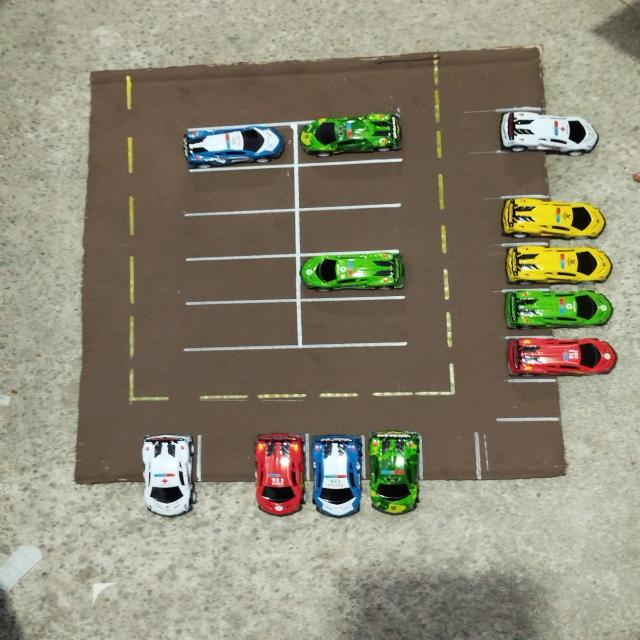libre: (75, 433, 141, 520), (496, 153, 618, 196), (186, 302, 299, 348), (420, 431, 476, 521), (185, 213, 298, 256), (299, 299, 409, 342), (186, 168, 296, 210), (202, 433, 254, 520), (294, 165, 401, 207), (186, 258, 298, 298), (501, 381, 624, 417), (296, 209, 401, 251)
no_estacionarse: (478, 419, 565, 483)
ocupado: (502, 288, 617, 335), (498, 197, 614, 243), (363, 429, 421, 520), (499, 242, 618, 286), (140, 433, 200, 520), (501, 336, 622, 379), (493, 110, 607, 154), (307, 431, 363, 519), (294, 117, 402, 162), (253, 431, 307, 518), (297, 252, 407, 293), (178, 128, 294, 158)
